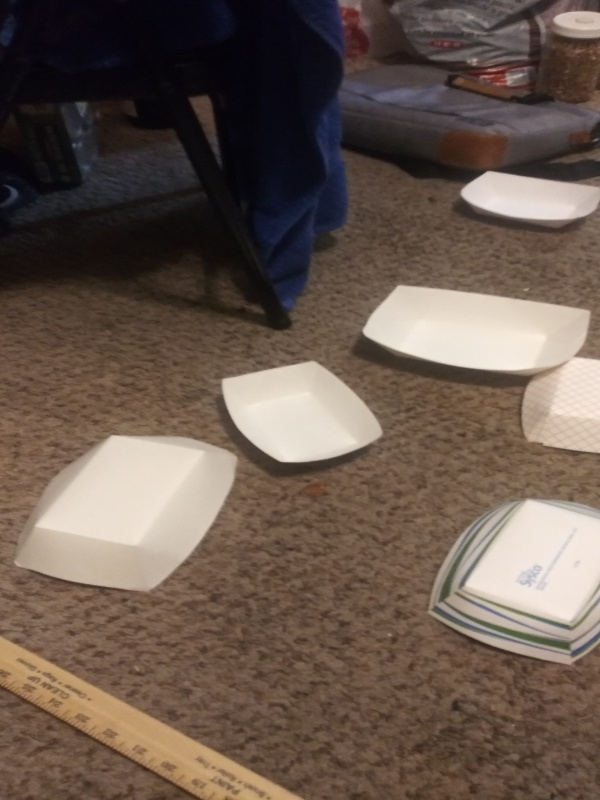plate: (11, 432, 242, 598), (421, 492, 600, 671), (357, 282, 595, 380), (214, 357, 388, 471), (453, 166, 600, 237), (518, 356, 600, 459)
